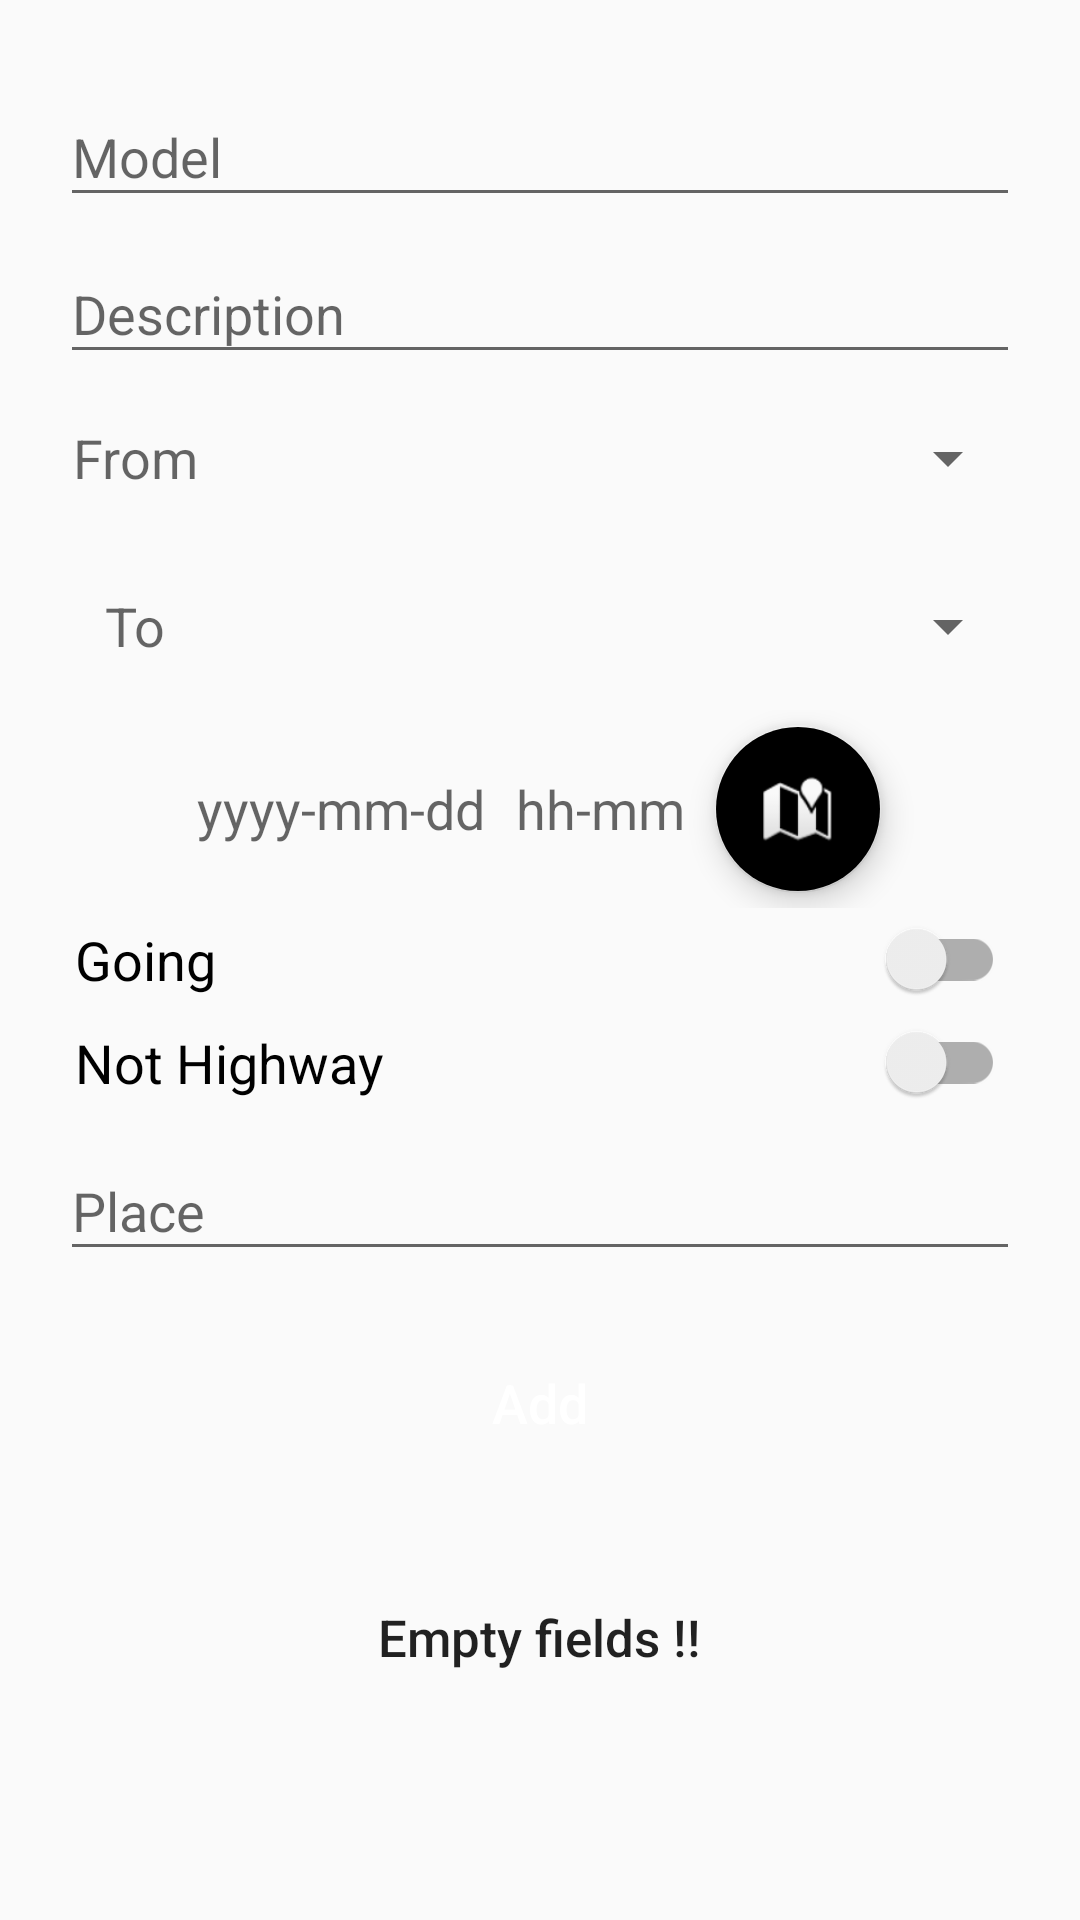

Locate icon controls on the screen. Image size 1080 × 1920, boxes as (left=x1, top=y1, right=x2, bottom=y2).
map: (left=715, top=727, right=882, bottom=893)
